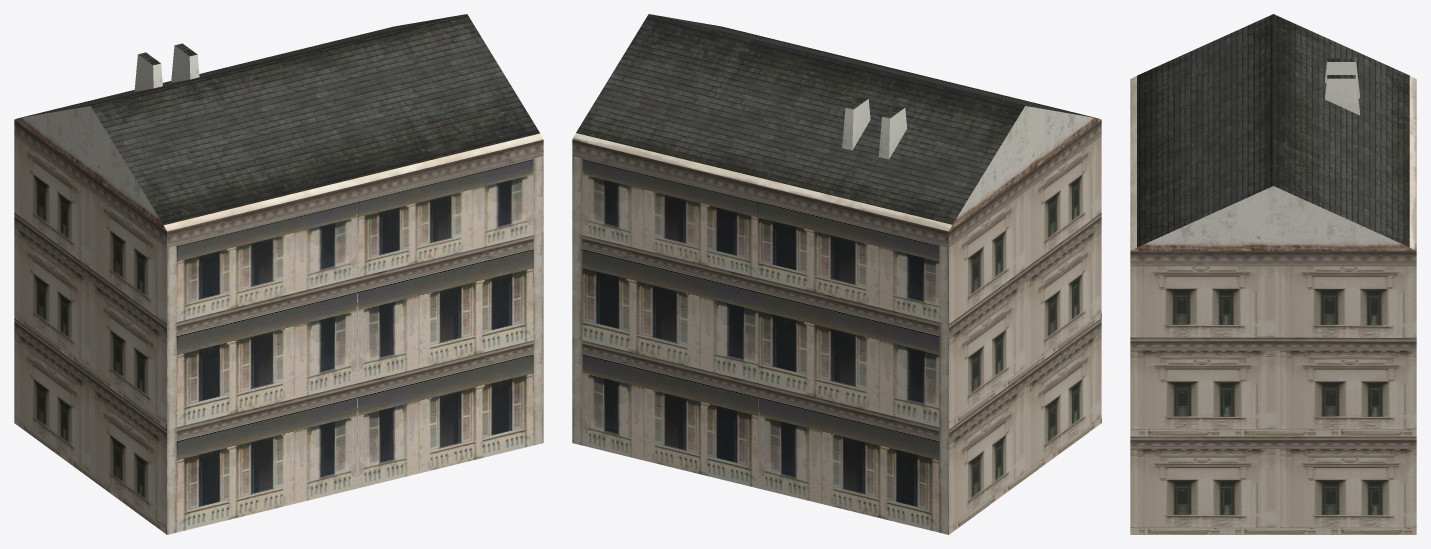
The model's file is SM_Building_Rich_02a.fbx.
The picture shows the model from 3 angles, left to right: view 1: azimuth 30°, elevation 25°; view 2: azimuth 150°, elevation 25°; view 3: azimuth 270°, elevation 25°; orthographic projection. The views are drawn at different scales.
Visible parts, largest first — view 1: SM_Building_Rich_02a; view 2: SM_Building_Rich_02a; view 3: SM_Building_Rich_02a.
Boxes of the visible parts, x1,y1,x2,y2 form: SM_Building_Rich_02a: (14, 14, 543, 534); SM_Building_Rich_02a: (572, 14, 1101, 534); SM_Building_Rich_02a: (1130, 14, 1416, 534).
Bounding box in the file's own units: 20 × 18.93 × 14.06.
